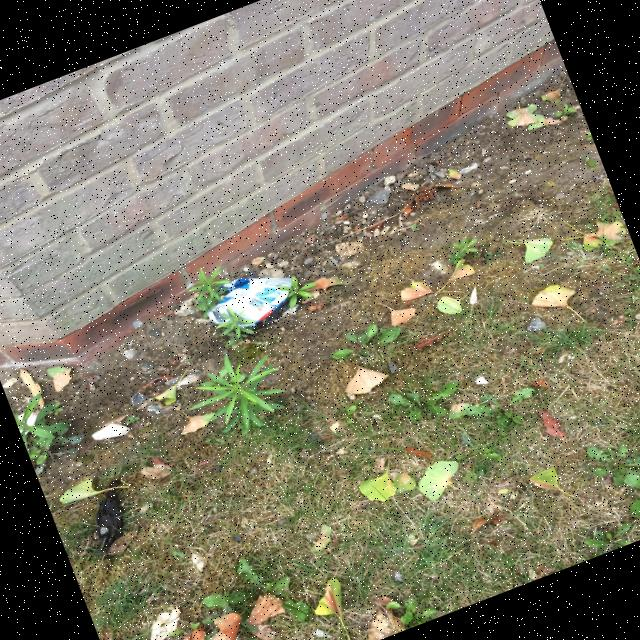Crisp packet: (208, 278, 293, 328)
